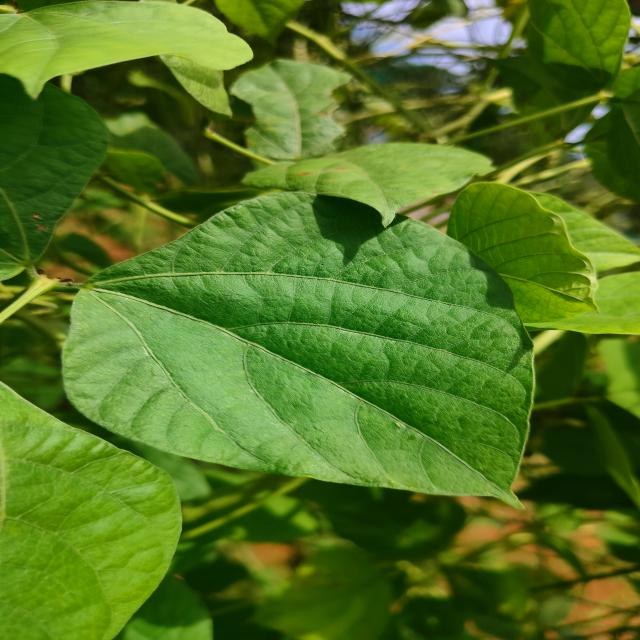Dolicos bean_healthy: (63, 192, 535, 503), (0, 60, 114, 274), (239, 140, 492, 226)
